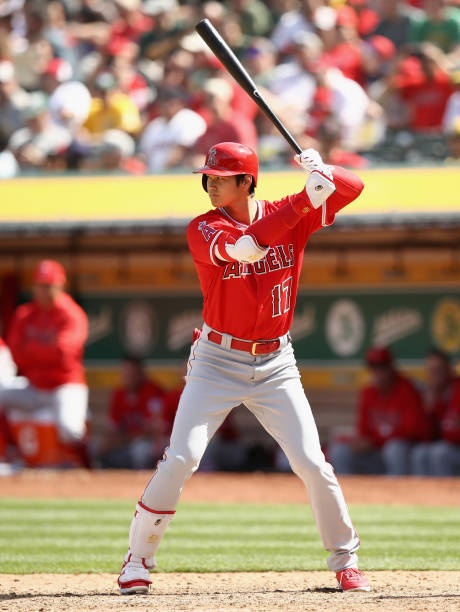bita: (196, 18, 321, 175)
